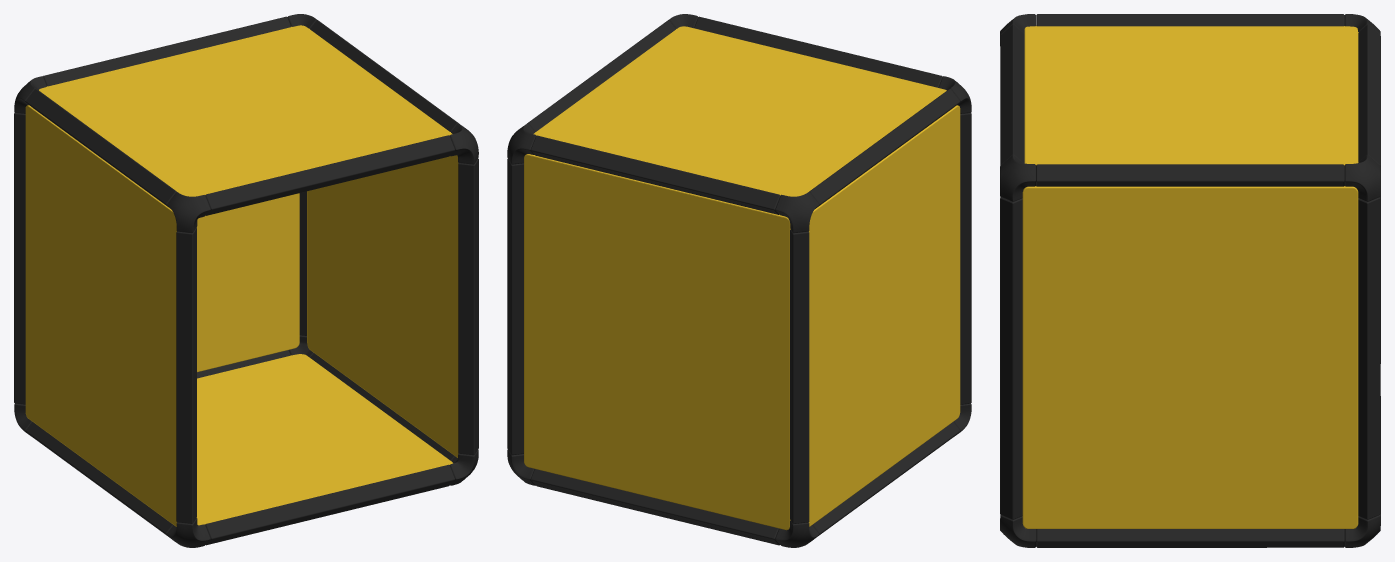
3 renders of one model, left to right at view 1: azimuth 30°, elevation 25°; view 2: azimuth 150°, elevation 25°; view 3: azimuth 270°, elevation 25°, orthographic. The views are drawn at different scales.
Parts seen in each view (by area): view 1: 329x329x374; view 2: 329x329x374; view 3: 329x329x374.
Boxes of the visible parts, left/top/right/bottom form: 329x329x374: left=14, top=14, right=478, bottom=547; 329x329x374: left=507, top=14, right=971, bottom=547; 329x329x374: left=1000, top=14, right=1380, bottom=547.
Bounding box in the file's own units: 0.4066 × 0.4516 × 0.4062.
